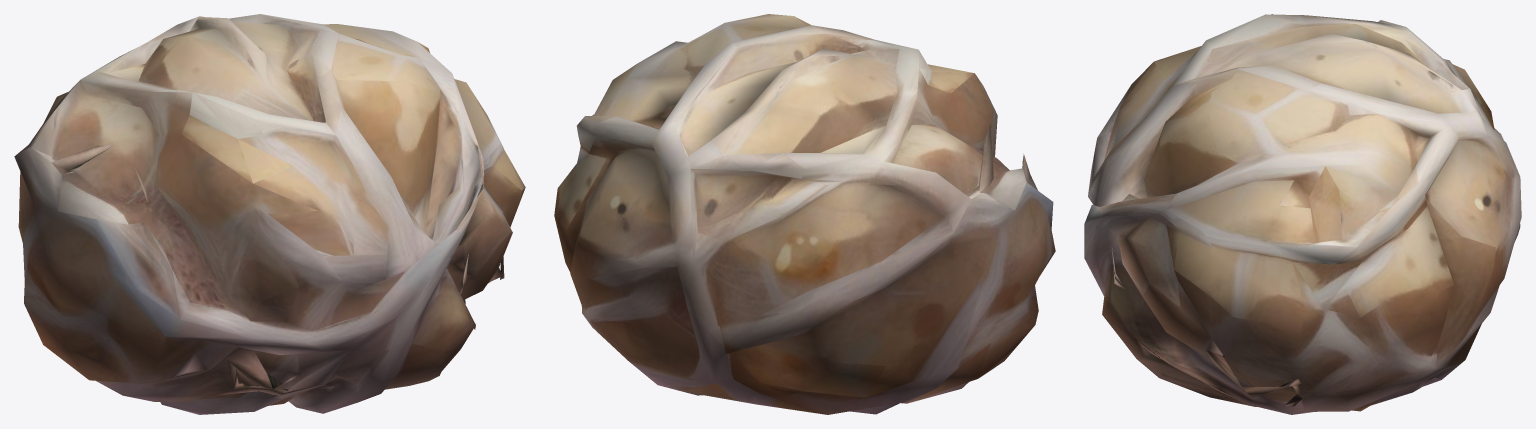
File: silk_cocoon.glb
3 views of the same model, side by side, from view 1: azimuth 30°, elevation 25°; view 2: azimuth 150°, elevation 25°; view 3: azimuth 270°, elevation 25° (orthographic). The views are drawn at different scales.
Visible parts, largest first — view 1: geometry_0; view 2: geometry_0; view 3: geometry_0.
Part boxes in pixels (left/top/right/bottom): geometry_0: left=14, top=14, right=525, bottom=414; geometry_0: left=554, top=14, right=1055, bottom=414; geometry_0: left=1084, top=14, right=1521, bottom=414.
Size of the model in its own units: 1.51 by 1.16 by 1.34.
1 material, 1 textured.
